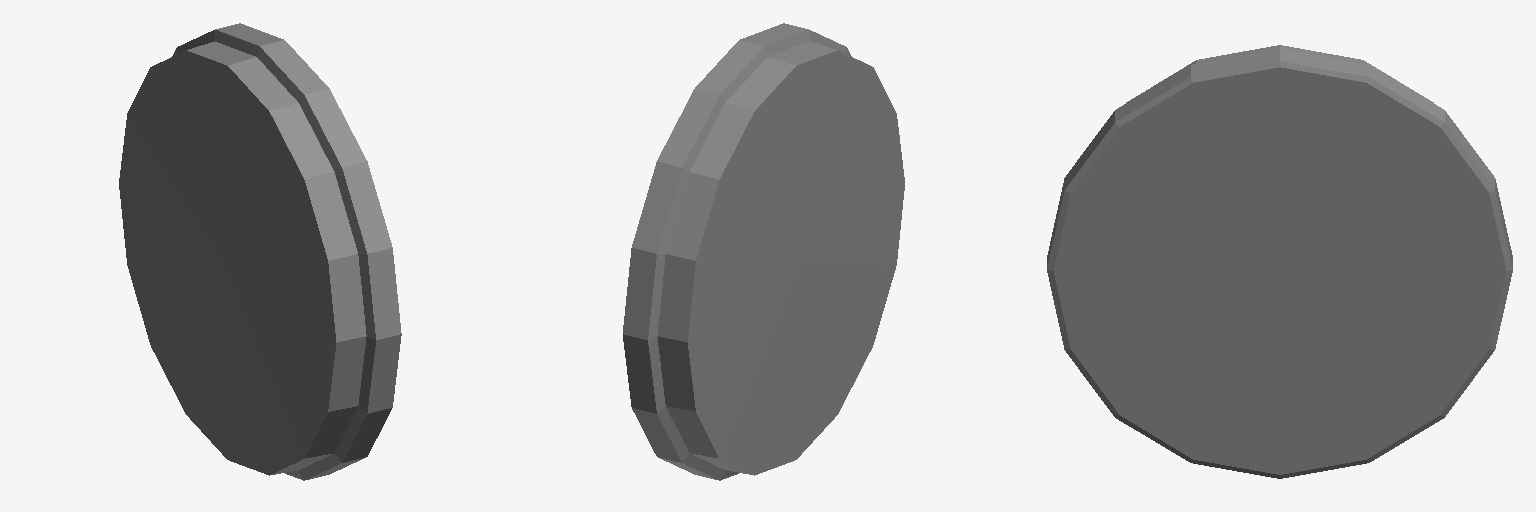
File: RuedaDer1.obj
3 views of the same model, side by side, from view 1: azimuth 30°, elevation 25°; view 2: azimuth 150°, elevation 25°; view 3: azimuth 270°, elevation 25° (orthographic).
Parts seen in each view (by area): view 1: RuedaDer1; view 2: RuedaDer1; view 3: RuedaDer1.
Boxes of the visible parts, <box> form: RuedaDer1: <box>119,23,401,480</box>; RuedaDer1: <box>623,23,904,480</box>; RuedaDer1: <box>1047,45,1512,478</box>.
Bounding box in the file's own units: 0.0413 × 0.2638 × 0.2667.